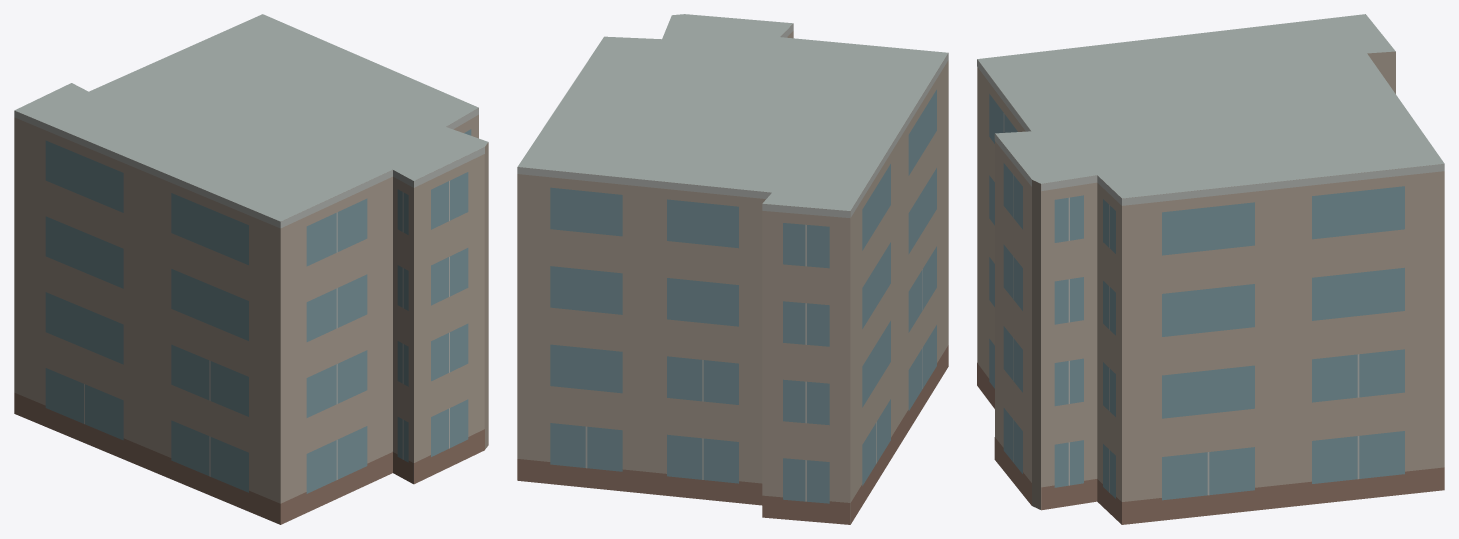
The model's file is survey-upis-32978698.glb.
The picture shows the model from 3 angles, left to right: view 1: azimuth 30°, elevation 25°; view 2: azimuth 150°, elevation 25°; view 3: azimuth 270°, elevation 25°; orthographic projection. The views are drawn at different scales.
Visible parts, largest first — view 1: survey-upis-32978698.tmp; view 2: survey-upis-32978698.tmp; view 3: survey-upis-32978698.tmp.
Boxes of the visible parts, box(x1,y1,x2,y2) form: survey-upis-32978698.tmp: box(14, 14, 488, 524); survey-upis-32978698.tmp: box(517, 14, 948, 524); survey-upis-32978698.tmp: box(977, 14, 1444, 524).
Size of the model in its own units: 13.11 by 10.8 by 14.03.
